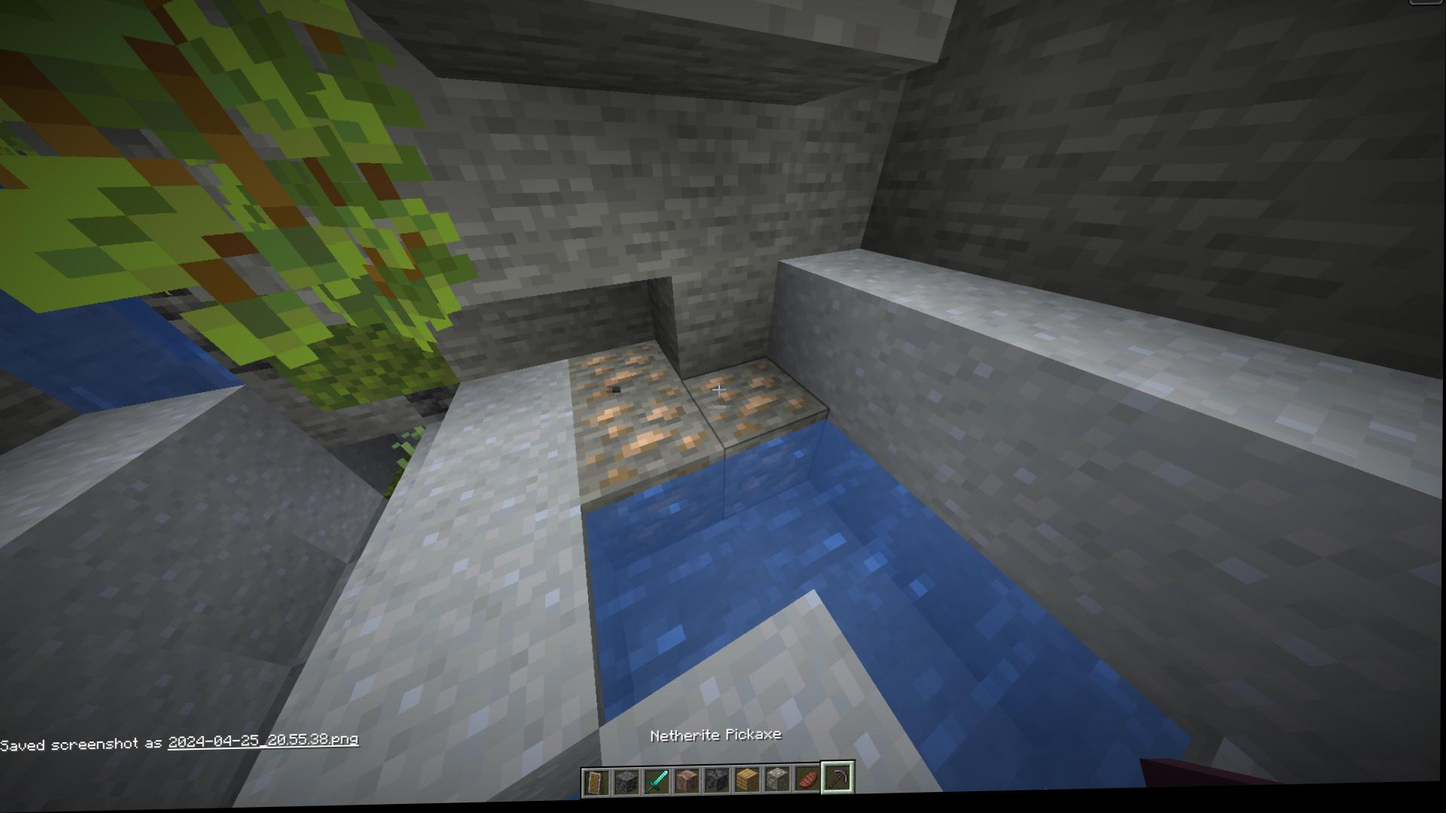iron ore: (577, 395, 701, 489), (561, 341, 671, 416), (700, 364, 809, 435)
